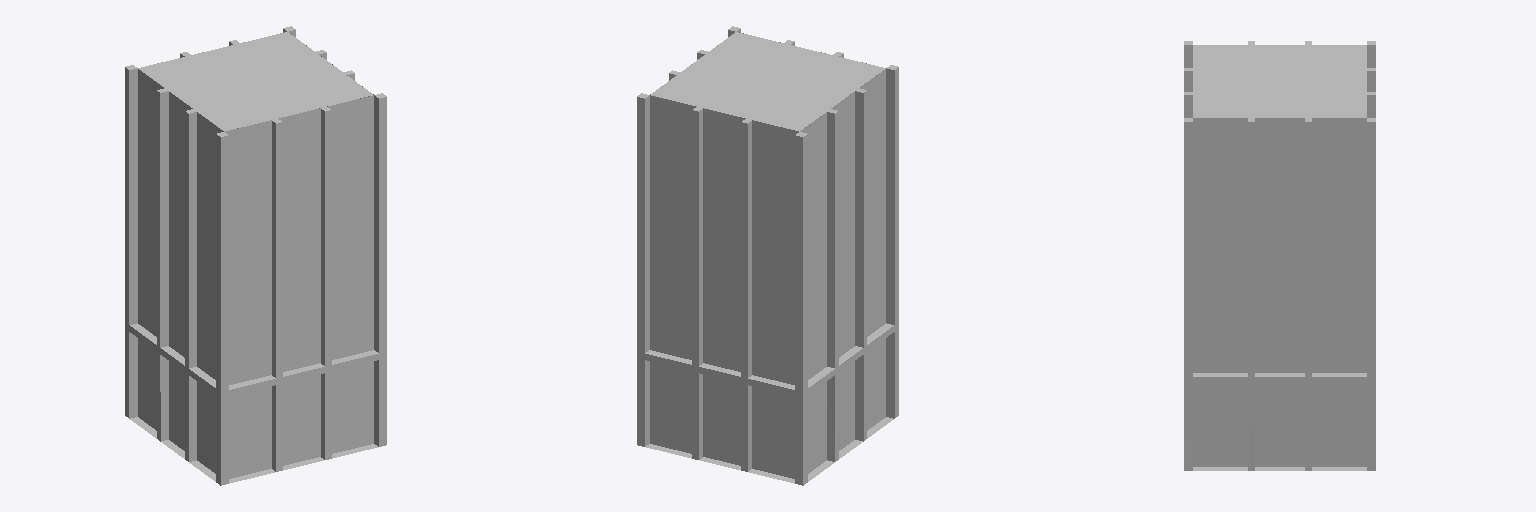
File: LP_House_2.obj
3 views of the same model, side by side, from view 1: azimuth 30°, elevation 25°; view 2: azimuth 150°, elevation 25°; view 3: azimuth 270°, elevation 25° (orthographic).
Visible parts, largest first — view 1: Box001; view 2: Box001; view 3: Box001.
Part boxes in pixels (left/top/right/bottom): Box001: left=125, top=26, right=386, bottom=485; Box001: left=637, top=26, right=898, bottom=485; Box001: left=1184, top=41, right=1375, bottom=470.
Bounding box in the file's own units: 30 × 60 × 30.